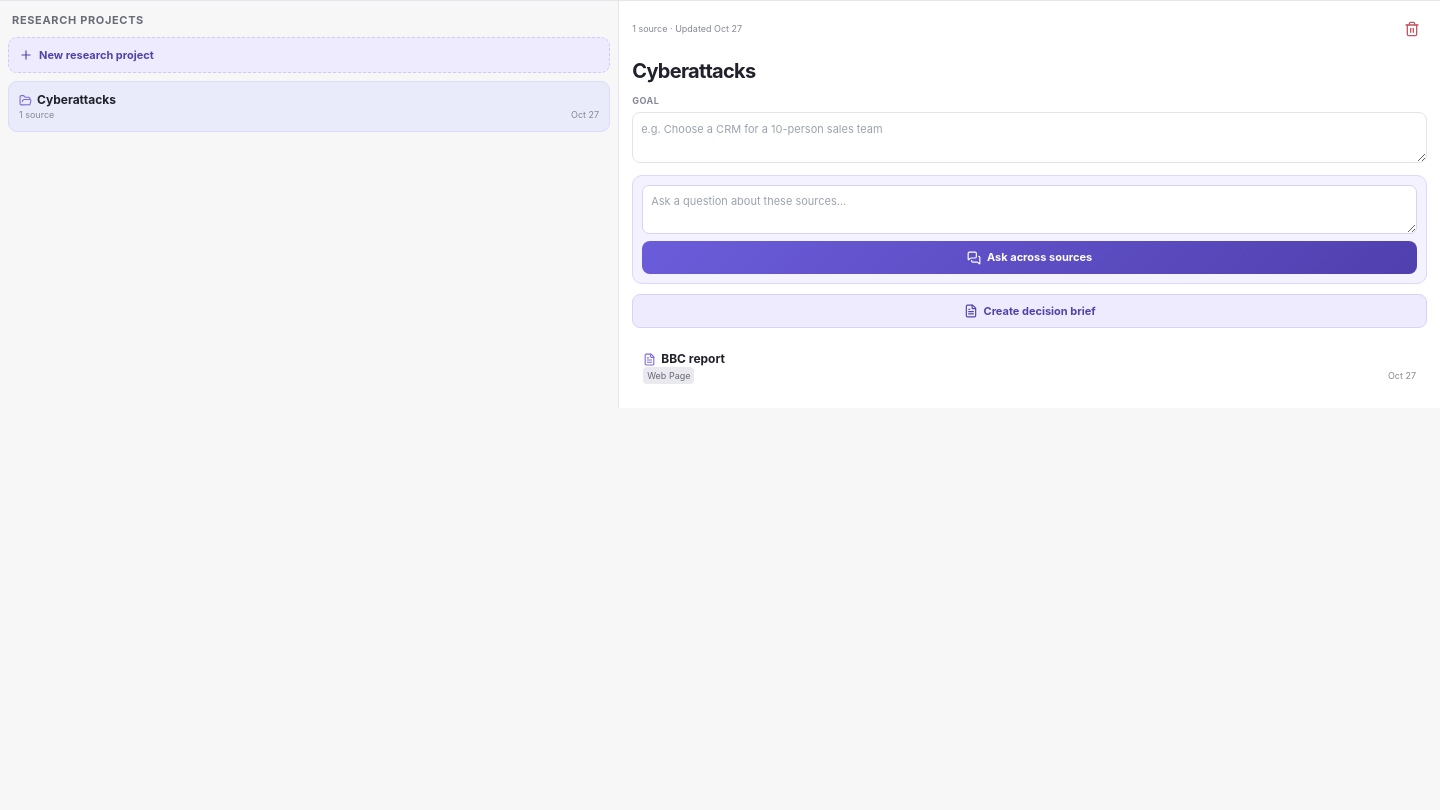
Test case: Ask across sources workspace › carries a question typed in the project into the workspace
In the text box labelled "question about these sources": (1030, 209) [642,184,1417,234], type "What does the BBC say?"
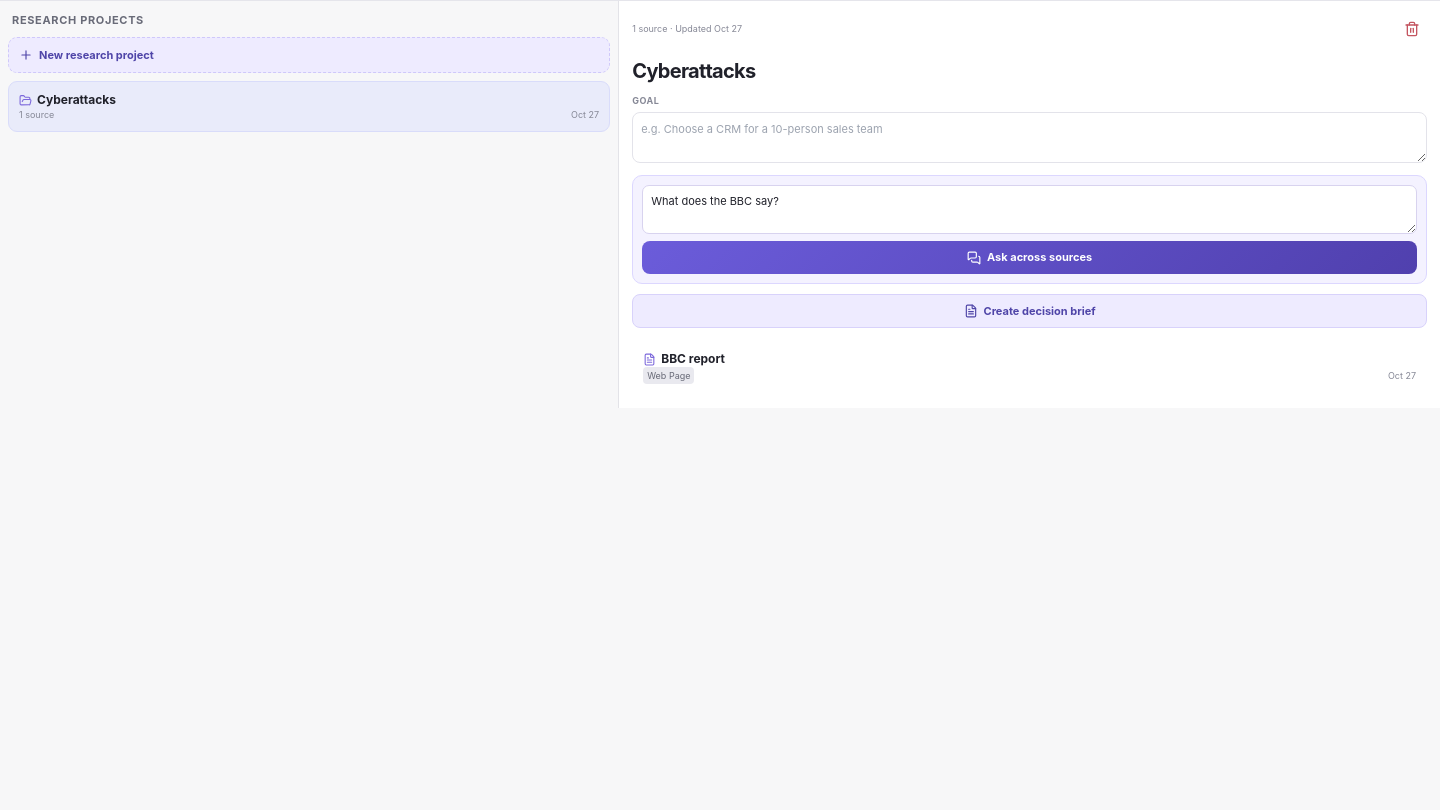
Click the button "Ask across sources": (1030, 258) [642,241,1417,274]
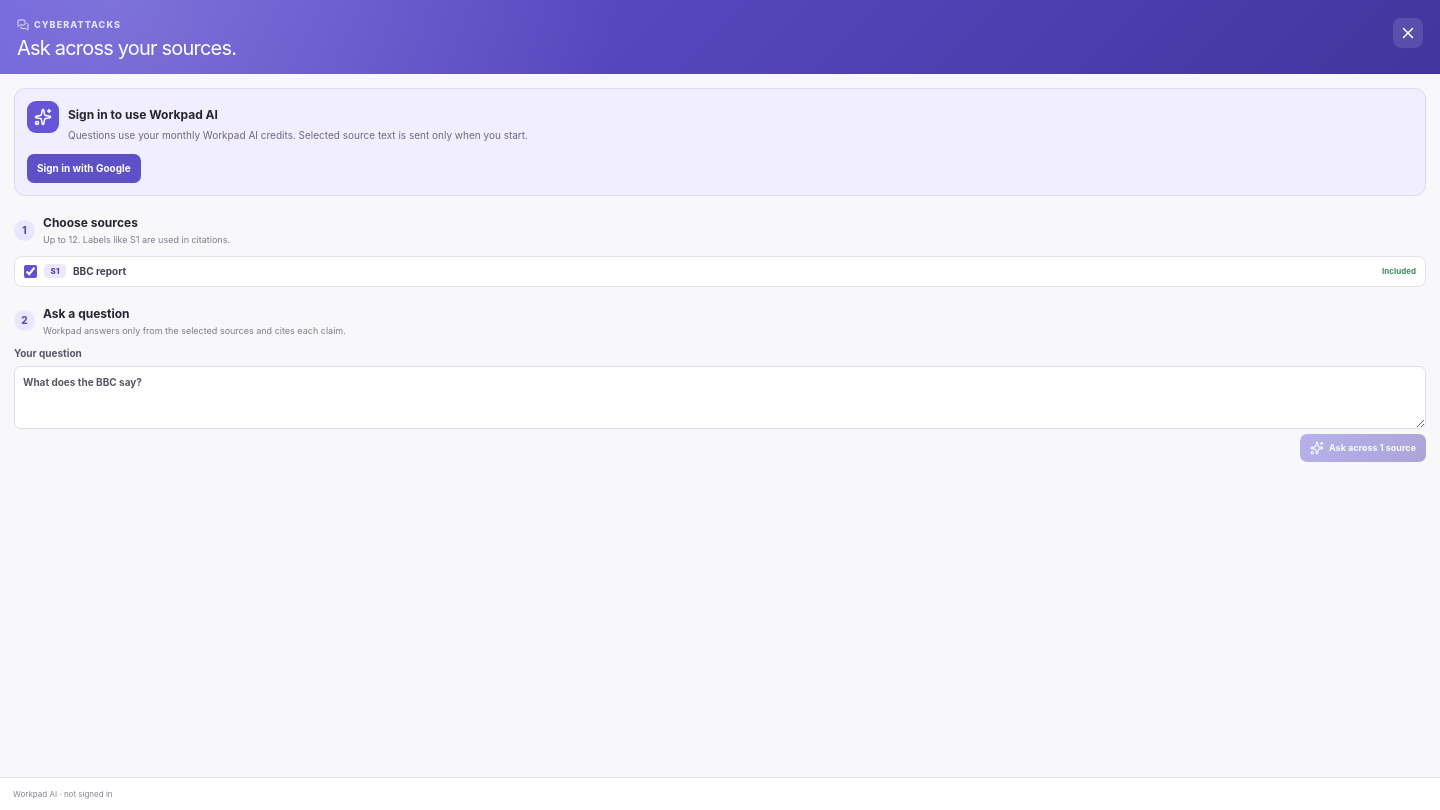
Expected: the text box labelled "Your question" holds "What does the BBC say?", [14,366,1426,429]
